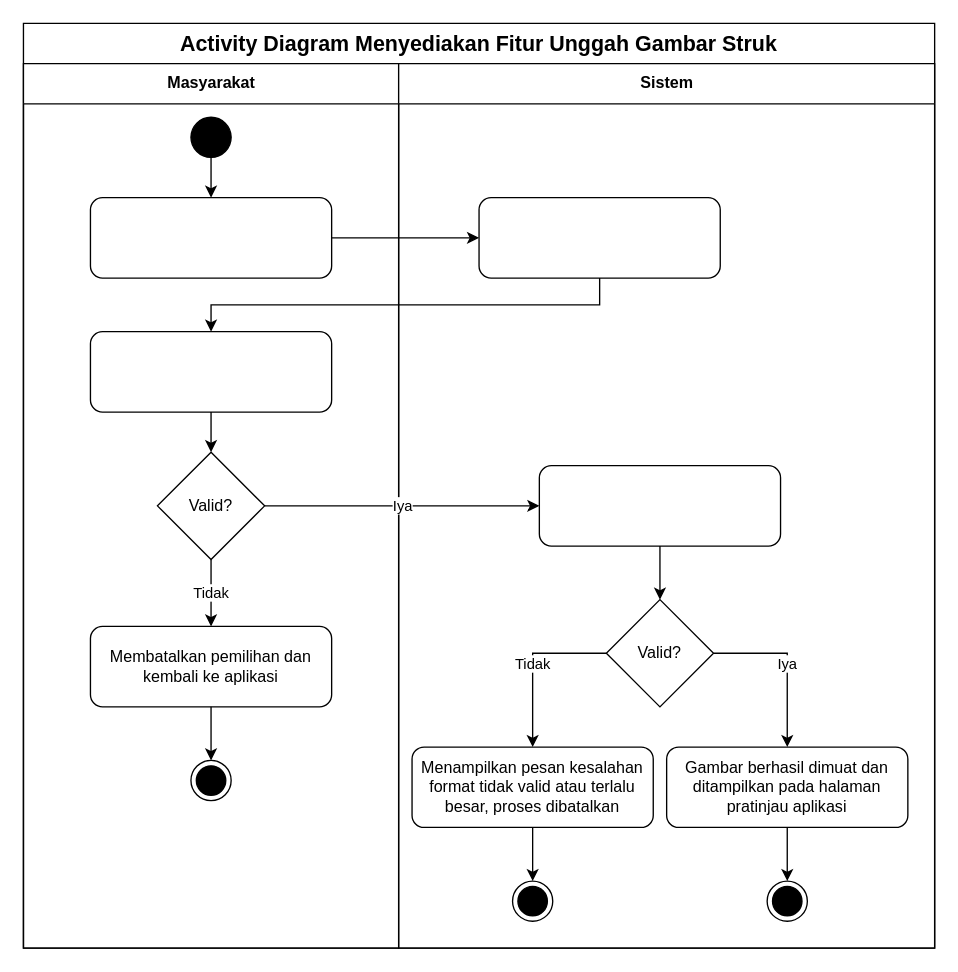
Image size: 958x972. Some labels were removed from this diagram. The shapes that lost their labels are listed below. From the top down, each one's centre as x and y in pixels, then its label:
point (210, 237): Menekan tombol "Galeri"
point (599, 237): Menginisiasi modul File Picker
point (210, 371): Memilih file gambar struk belanja (format JPG, JPEG, atau PNG)
point (659, 505): Memvalidasi format dan ukuran file gambar (maksimal 5 MB)
